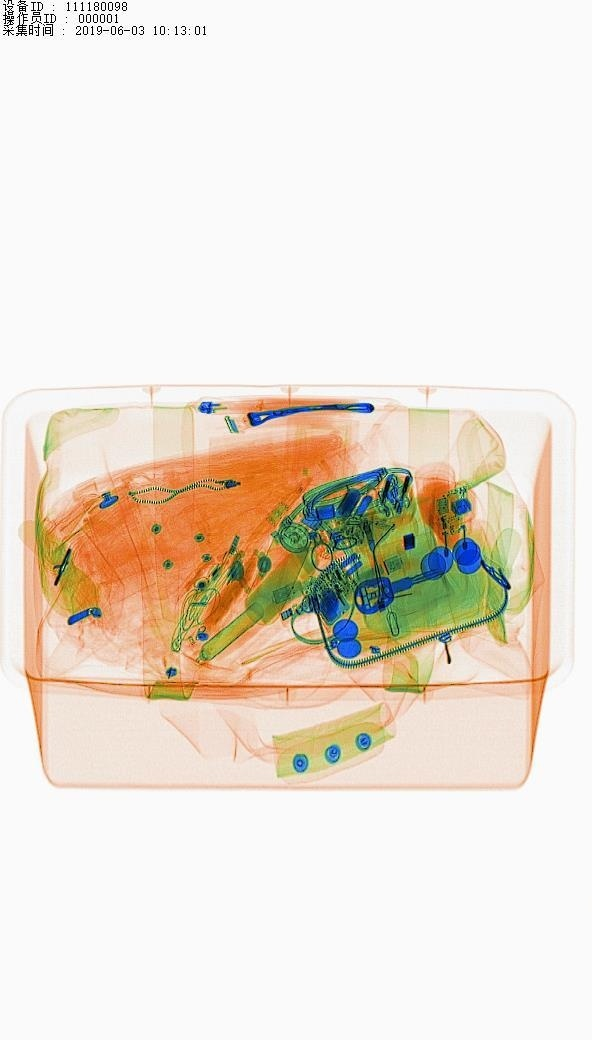NonmetallicFire: (195, 390, 277, 429)
